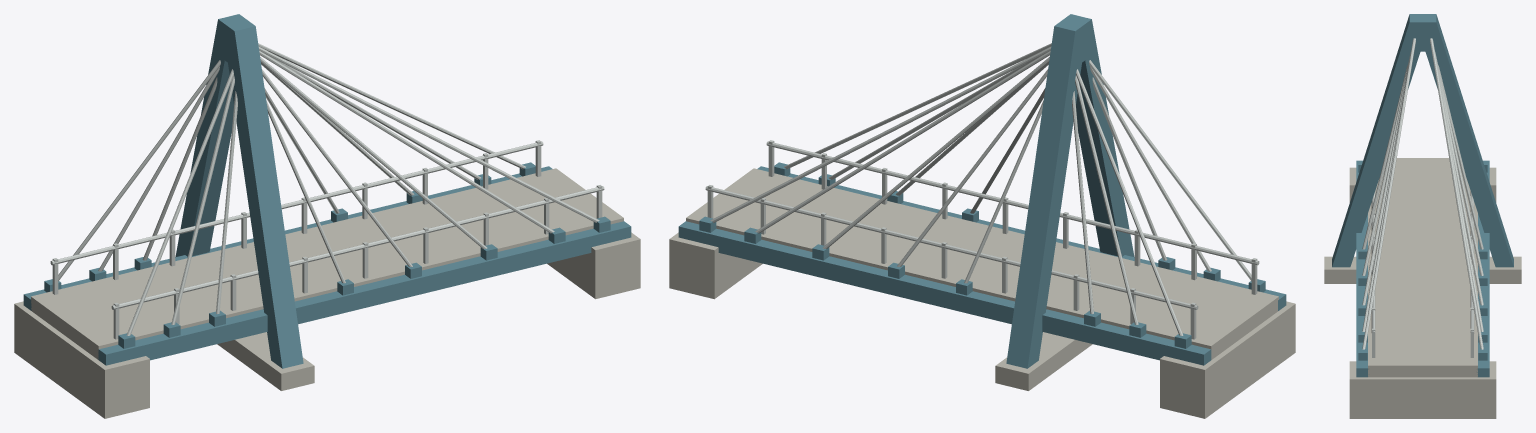
The picture shows the model from 3 angles, left to right: view 1: azimuth 30°, elevation 25°; view 2: azimuth 150°, elevation 25°; view 3: azimuth 270°, elevation 25°; orthographic projection. The views are drawn at different scales.
Parts seen in each view (by area): view 1: WholeContinuousBridgeDeck, WholeForkedPylon, WholeLongitudinalEdgeGirder-1, WholeTerminalAbutment-1, WholeTerminalAbutment1, WholePylonGroundFoot, WholeLowGuardRail-1, WholeLowGuardRail1, WholeDirectRadiatingStay-1_7, WholeDirectRadiatingStay-1_6, WholeLongitudinalEdgeGirder1, WholeDirectRadiatingStay-1_5 (+12 smaller); view 2: WholeContinuousBridgeDeck, WholeForkedPylon, WholeLongitudinalEdgeGirder1, WholeTerminalAbutment-1, WholeTerminalAbutment1, WholePylonGroundFoot, WholeLowGuardRail1, WholeLowGuardRail-1, WholeDirectRadiatingStay1_7, WholeDirectRadiatingStay1_6, WholeLongitudinalEdgeGirder-1, WholeDirectRadiatingStay1_5 (+12 smaller); view 3: WholeContinuousBridgeDeck, WholeForkedPylon, WholeTerminalAbutment1, WholePylonGroundFoot, WholeDirectRadiatingStay-1_7, WholeDirectRadiatingStay1_7, WholeLongitudinalEdgeGirder1, WholeLongitudinalEdgeGirder-1, WholeDirectRadiatingStay-1_5, WholeDirectRadiatingStay1_5, WholeDirectRadiatingStay-1_4, WholeDirectRadiatingStay1_4 (+7 smaller).
Part boxes in pixels (x1,y1,x2,y2): WholeContinuousBridgeDeck: (31,168,623,359); WholeForkedPylon: (175,14,303,368); WholeLongitudinalEdgeGirder-1: (98,221,631,365); WholeTerminalAbutment-1: (14,301,149,418); WholeTerminalAbutment1: (547,232,640,299); WholePylonGroundFoot: (217,332,314,390); WholeLowGuardRail-1: (111,186,604,309); WholeLowGuardRail1: (50,141,543,265); WholeDirectRadiatingStay-1_7: (258,46,599,222); WholeDirectRadiatingStay-1_6: (259,51,554,233); WholeLongitudinalEdgeGirder1: (23,166,552,310); WholeDirectRadiatingStay-1_5: (260,56,487,248); WholeContinuousBridgeDeck: (686,168,1278,359); WholeForkedPylon: (1006,14,1134,368); WholeLongitudinalEdgeGirder1: (678,221,1211,365); WholeTerminalAbutment-1: (1160,301,1295,418); WholeTerminalAbutment1: (669,232,762,299); WholePylonGroundFoot: (995,332,1092,390); WholeLowGuardRail1: (705,186,1198,309); WholeLowGuardRail-1: (766,141,1259,265); WholeDirectRadiatingStay1_7: (710,46,1051,222); WholeDirectRadiatingStay1_6: (755,51,1050,233); WholeLongitudinalEdgeGirder-1: (757,166,1286,310); WholeDirectRadiatingStay1_5: (822,56,1049,248); WholeContinuousBridgeDeck: (1368,158,1477,377); WholeForkedPylon: (1332,14,1513,267); WholeTerminalAbutment1: (1349,361,1496,418); WholePylonGroundFoot: (1324,256,1521,283); WholeDirectRadiatingStay-1_7: (1362,38,1415,349); WholeDirectRadiatingStay1_7: (1430,38,1483,349); WholeLongitudinalEdgeGirder1: (1477,160,1489,377); WholeLongitudinalEdgeGirder-1: (1356,160,1368,377); WholeDirectRadiatingStay-1_5: (1362,52,1410,305); WholeDirectRadiatingStay1_5: (1435,52,1483,305); WholeDirectRadiatingStay-1_4: (1362,53,1410,275); WholeDirectRadiatingStay1_4: (1435,53,1483,275).
Bounding box in the file's own units: 7.1 × 4.05 × 2.8.
